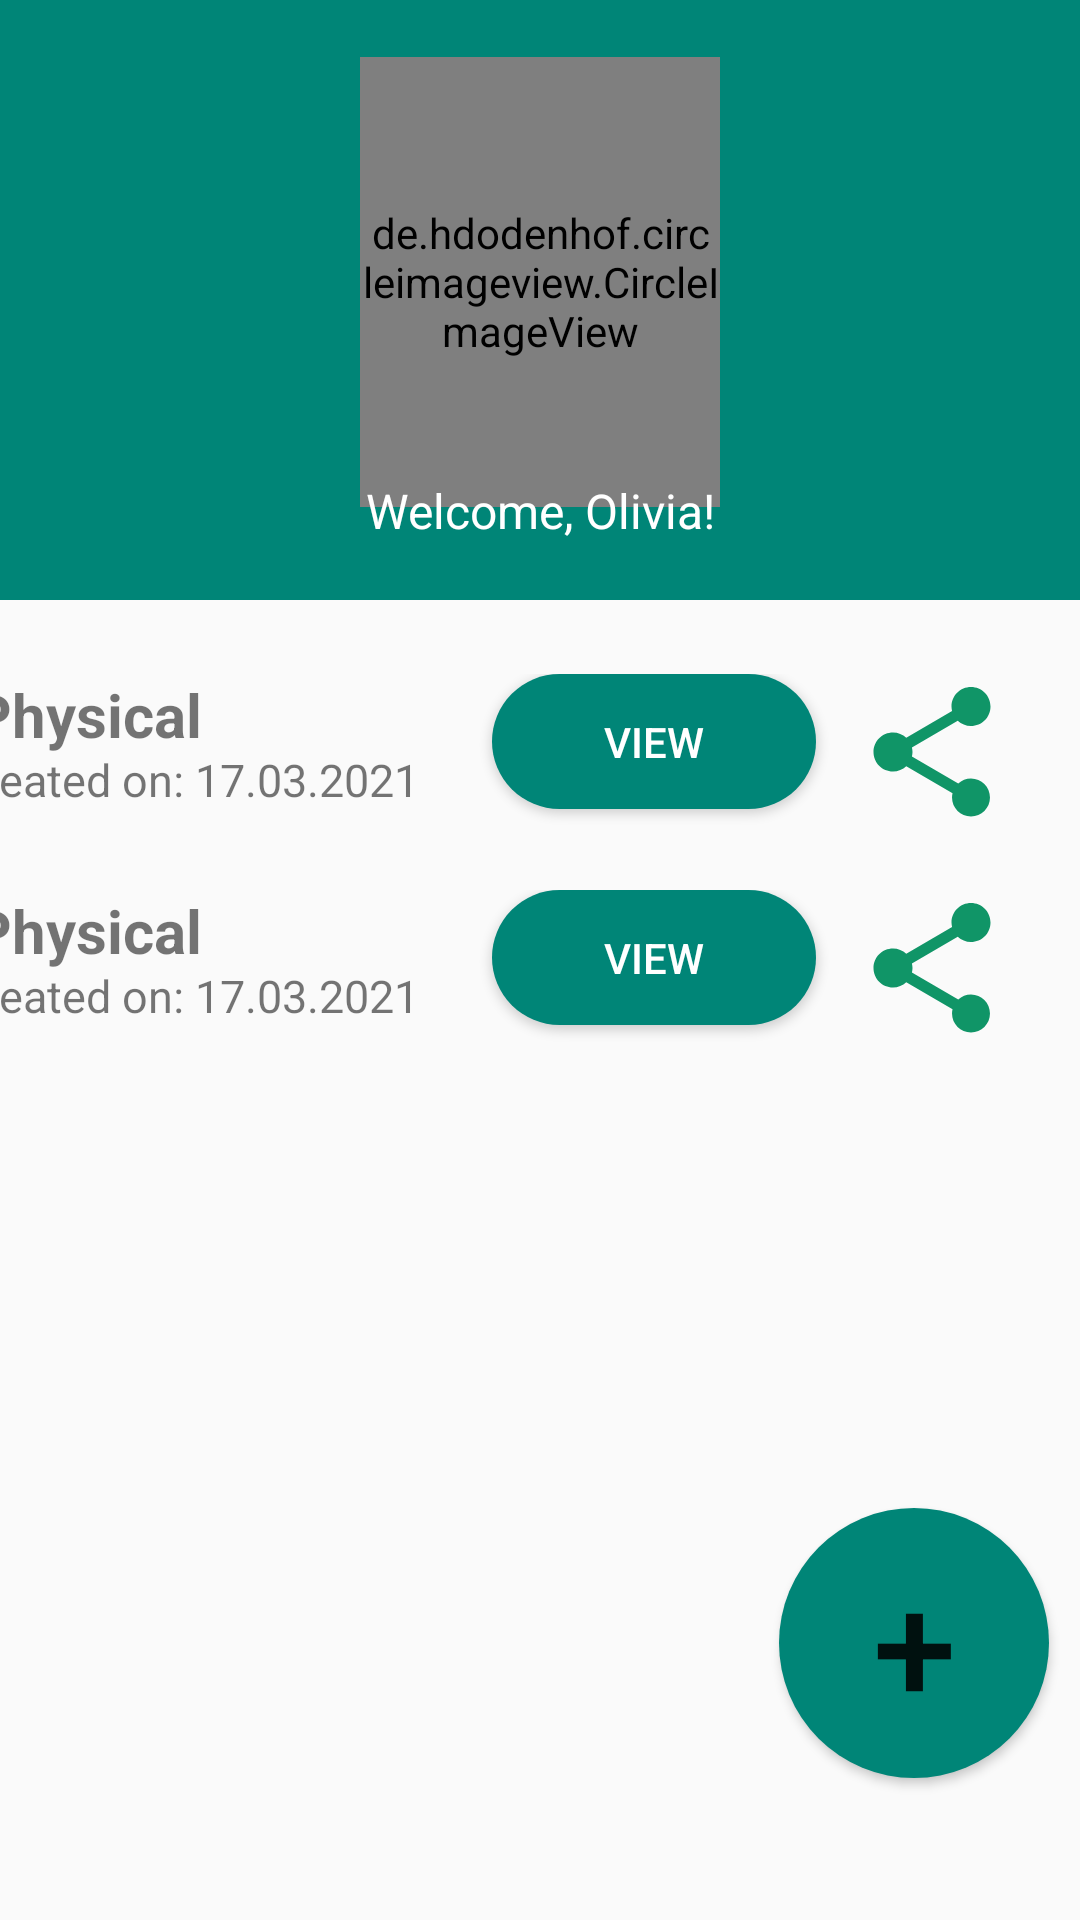

Named icons in this screenshot (1080w x 1920h) and their centers, (x,y):
share: (932,752), (932,968)
